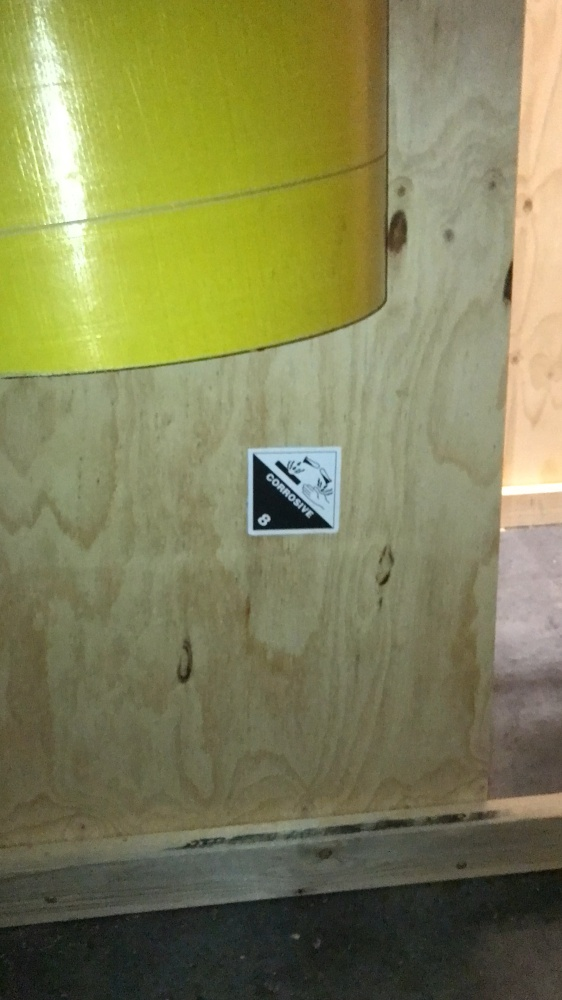Corrosive: (247, 446, 341, 535)
